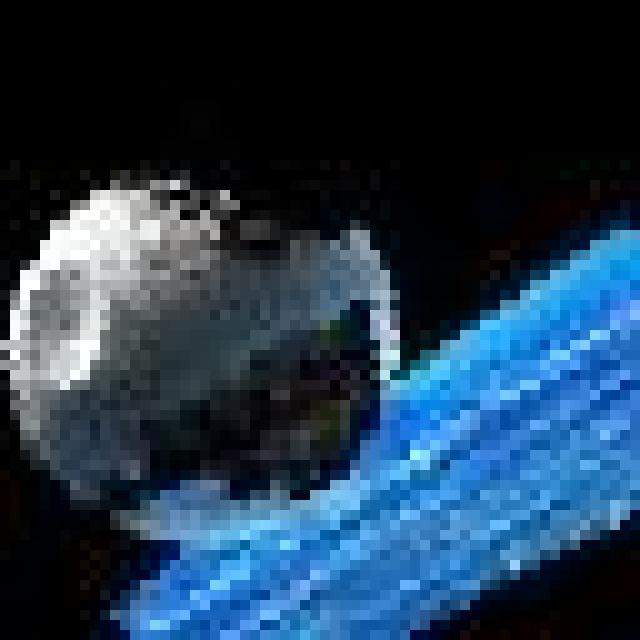Death Star: (11, 172, 388, 519)
